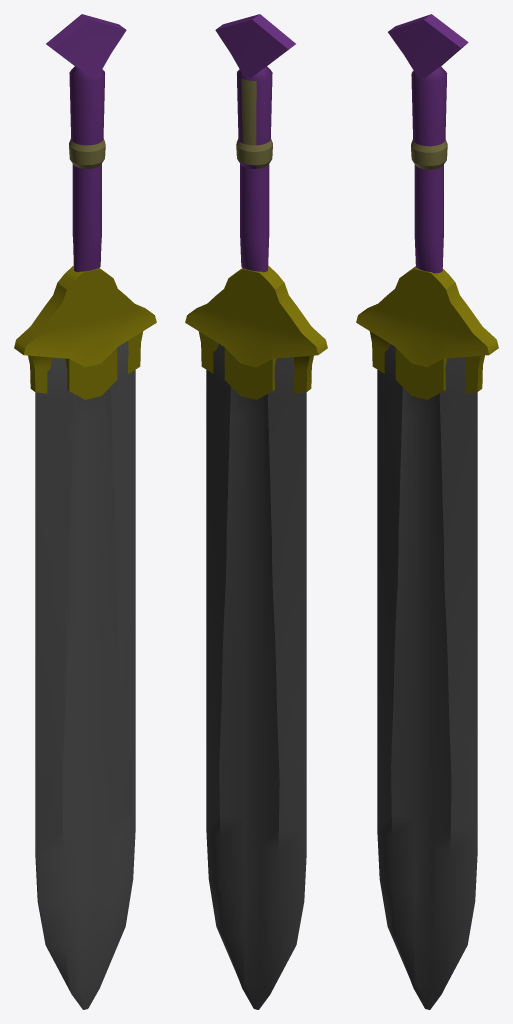
Rendered from TerminatorSword.fbx.
The picture shows the model from 3 angles, left to right: view 1: azimuth 30°, elevation 25°; view 2: azimuth 150°, elevation 25°; view 3: azimuth 330°, elevation 25°; orthographic projection.
Visible parts, largest first — view 1: polySurface10; view 2: polySurface10; view 3: polySurface10.
Part boxes in pixels (x1,y1,x2,y2): polySurface10: (14,14,156,1009); polySurface10: (185,14,327,1009); polySurface10: (356,14,498,1009).
Bounding box in the file's own units: 6.17 × 43.88 × 1.48.
